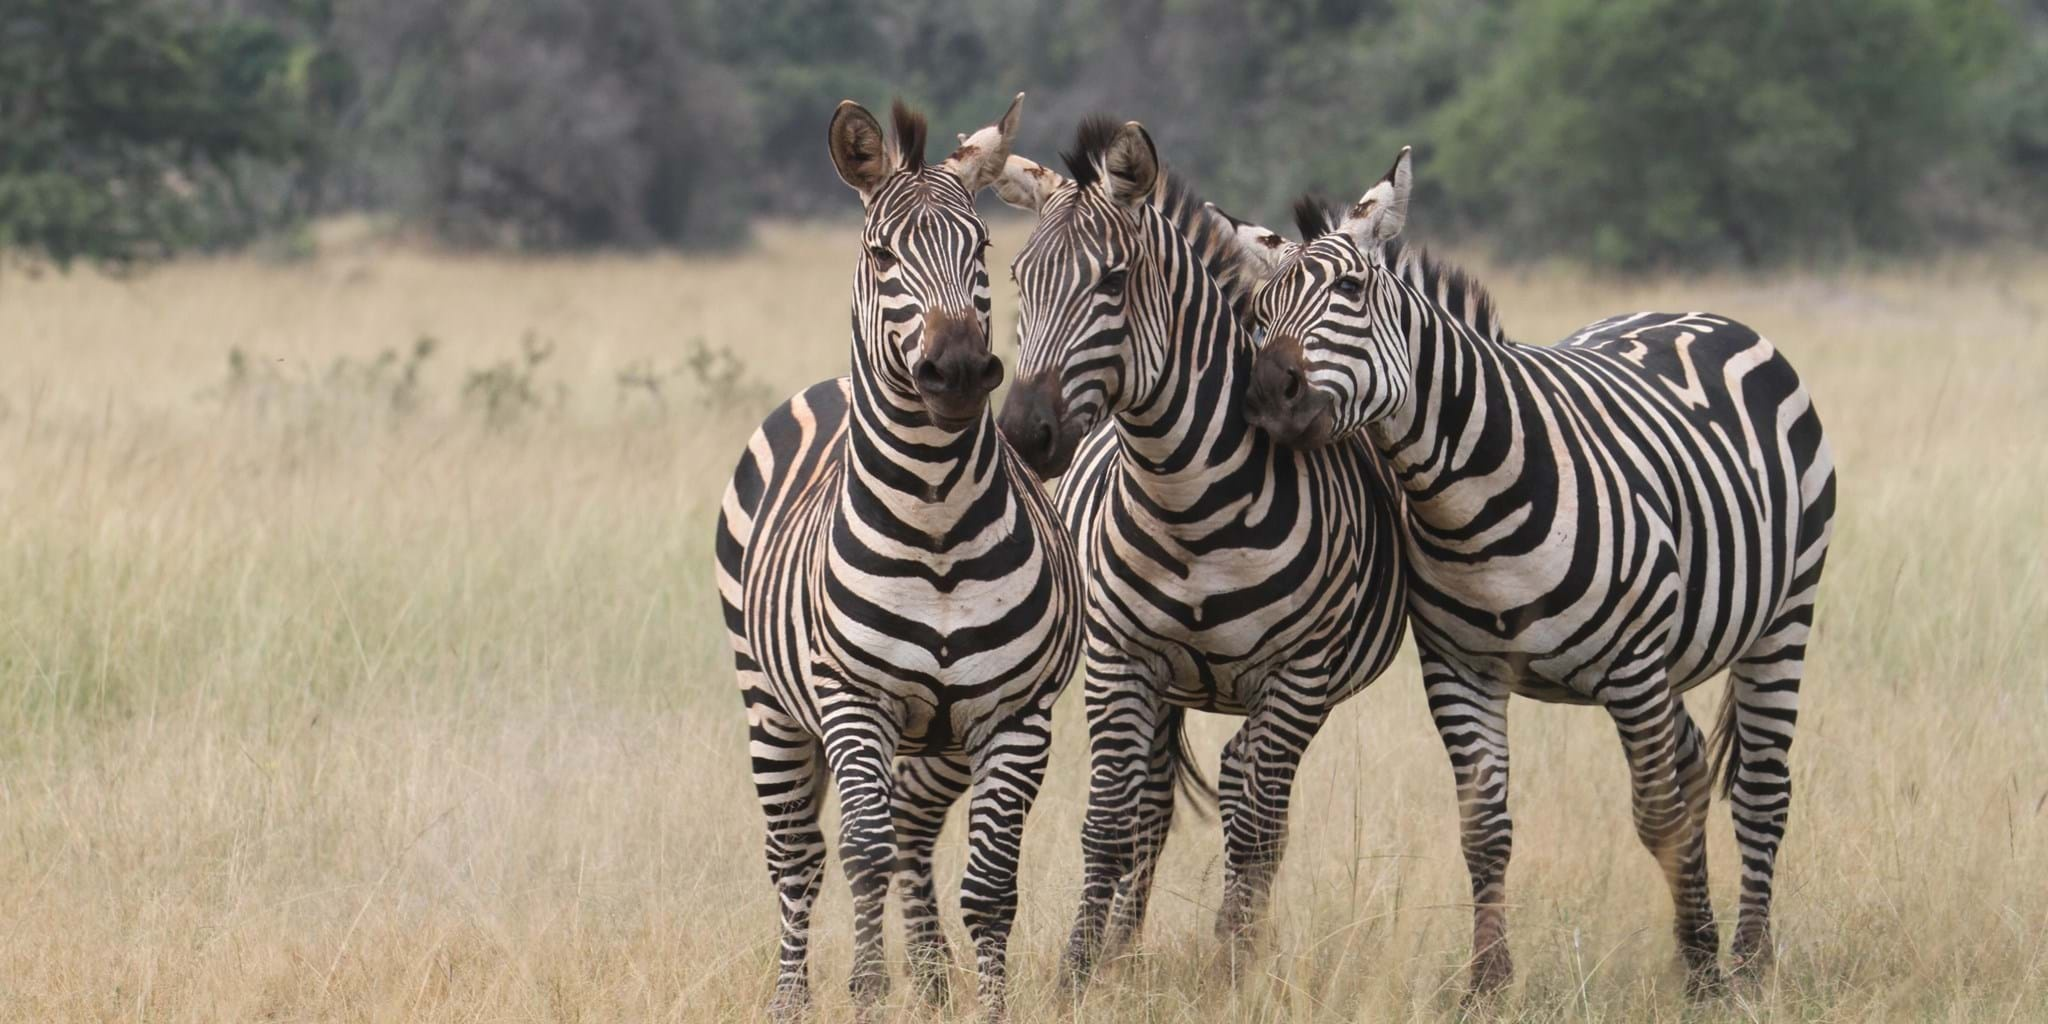zebra: (1202, 145, 1844, 1004), (948, 114, 1415, 997), (711, 78, 1078, 1010)
